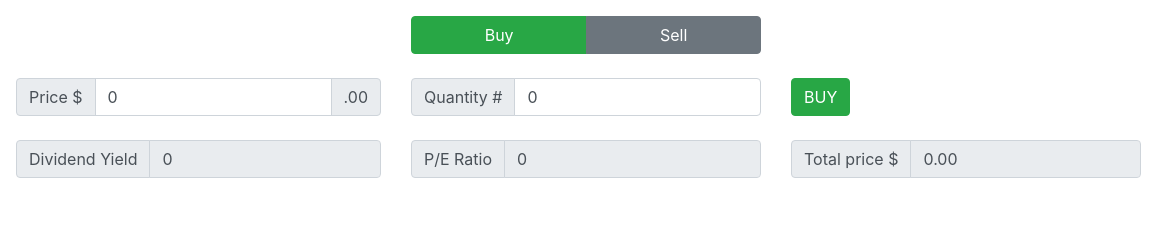
Test: <TradeForm> › Should show error message
Replace the text in the number field with test id "price-input" with "2": (213, 97) [94, 78, 332, 116]
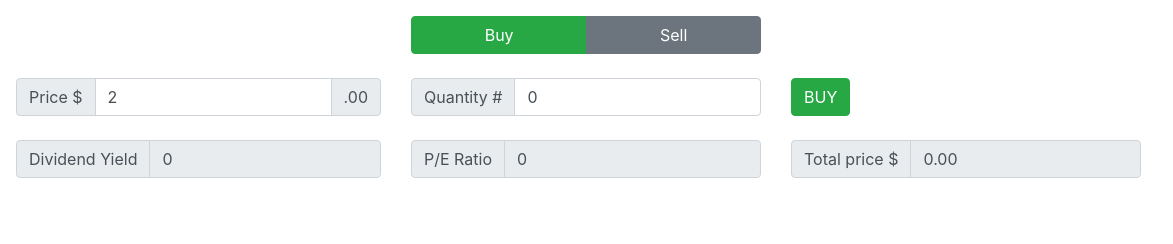
Replace the text in the number field with test id "quantity-input" with "2": (638, 97) [514, 78, 761, 116]
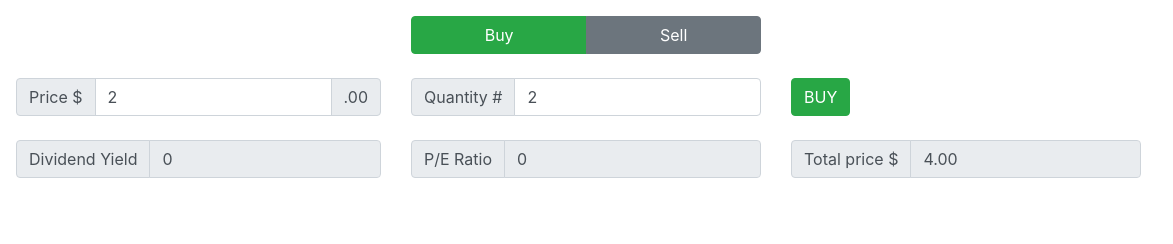
Click the button with test id "submit-button": (821, 97) [791, 78, 850, 116]
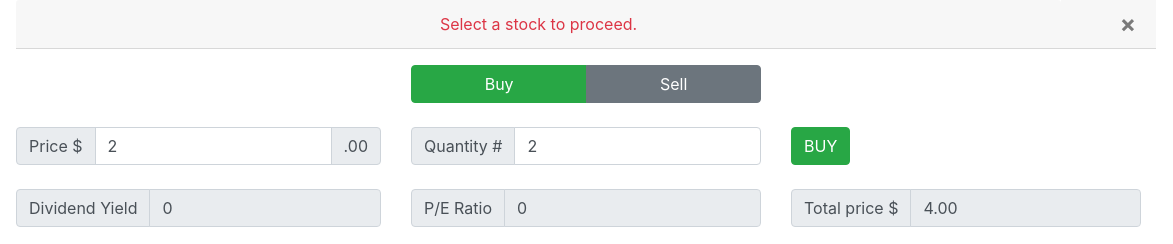
Expected: the text "Select a stock to proceed." is shown, [16, 0, 1061, 49]
